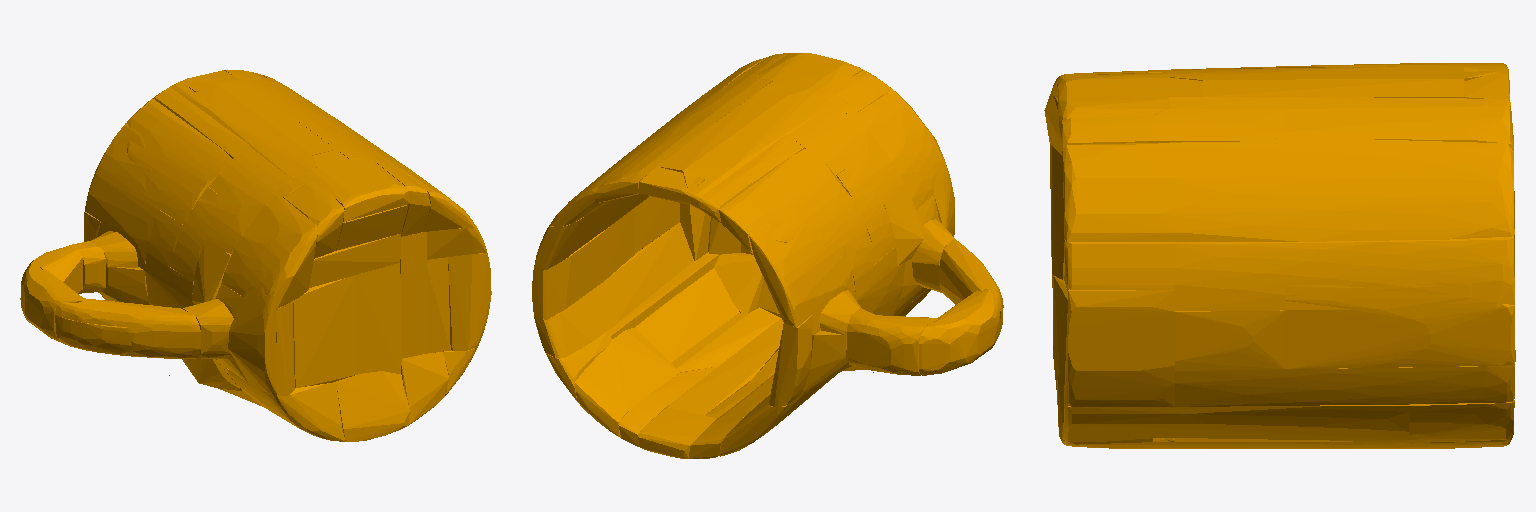
The robot description file, URDF, robot "cup-new":
<?xml version="1.0" ?>
<robot name="cup-new">
  <link name="baseLink">
    <contact>
      <lateral_friction value="1.0"/>
      <inertia_scaling value="3.0"/>
    </contact>
    <inertial>
      <origin rpy="0 0 0" xyz="0.000 0.000 0.000"/>
       <mass value=".1"/>
       <inertia ixx="1" ixy="0.0" ixz="0.0" iyy="1" iyz="0.0" izz="1"/>
    </inertial>
    <visual>
      <origin rpy="0 0 0" xyz="0 0 0"/>
      <geometry>
        <mesh filename="cup/cup-new_york.obj" scale="1.0 1.0 1.0"/>
      </geometry>
    </visual>
    <collision>
      <origin rpy="0 0 0" xyz="0 0 0"/>
      <geometry>
        <mesh filename="../collision/cup/cup-new_york.obj" scale="1.0 1.0 1.0"/>
      </geometry>
    </collision>
  </link>
</robot>
        

--- Facts derived from the render (not from the file) ---
Views: 3 orthographic renders of the robot side by side, from view 1: azimuth 30°, elevation 25°; view 2: azimuth 150°, elevation 25°; view 3: azimuth 270°, elevation 25°.
Robot: cup-new — 1 links, 0 joints (none); root link baseLink; default pose: all joints at 0.
Visible links, largest first — view 1: baseLink; view 2: baseLink; view 3: baseLink.
Boxes of the visible links, left/top/right/bottom form: baseLink: left=20, top=70, right=491, bottom=441; baseLink: left=532, top=53, right=1003, bottom=458; baseLink: left=1044, top=63, right=1515, bottom=448.
Size in the robot's own frame: 0.0921 by 0.0758 by 0.062 metres.
Meshes: 1 distinct files referenced, 1 mesh visuals loaded (1 OBJ).
